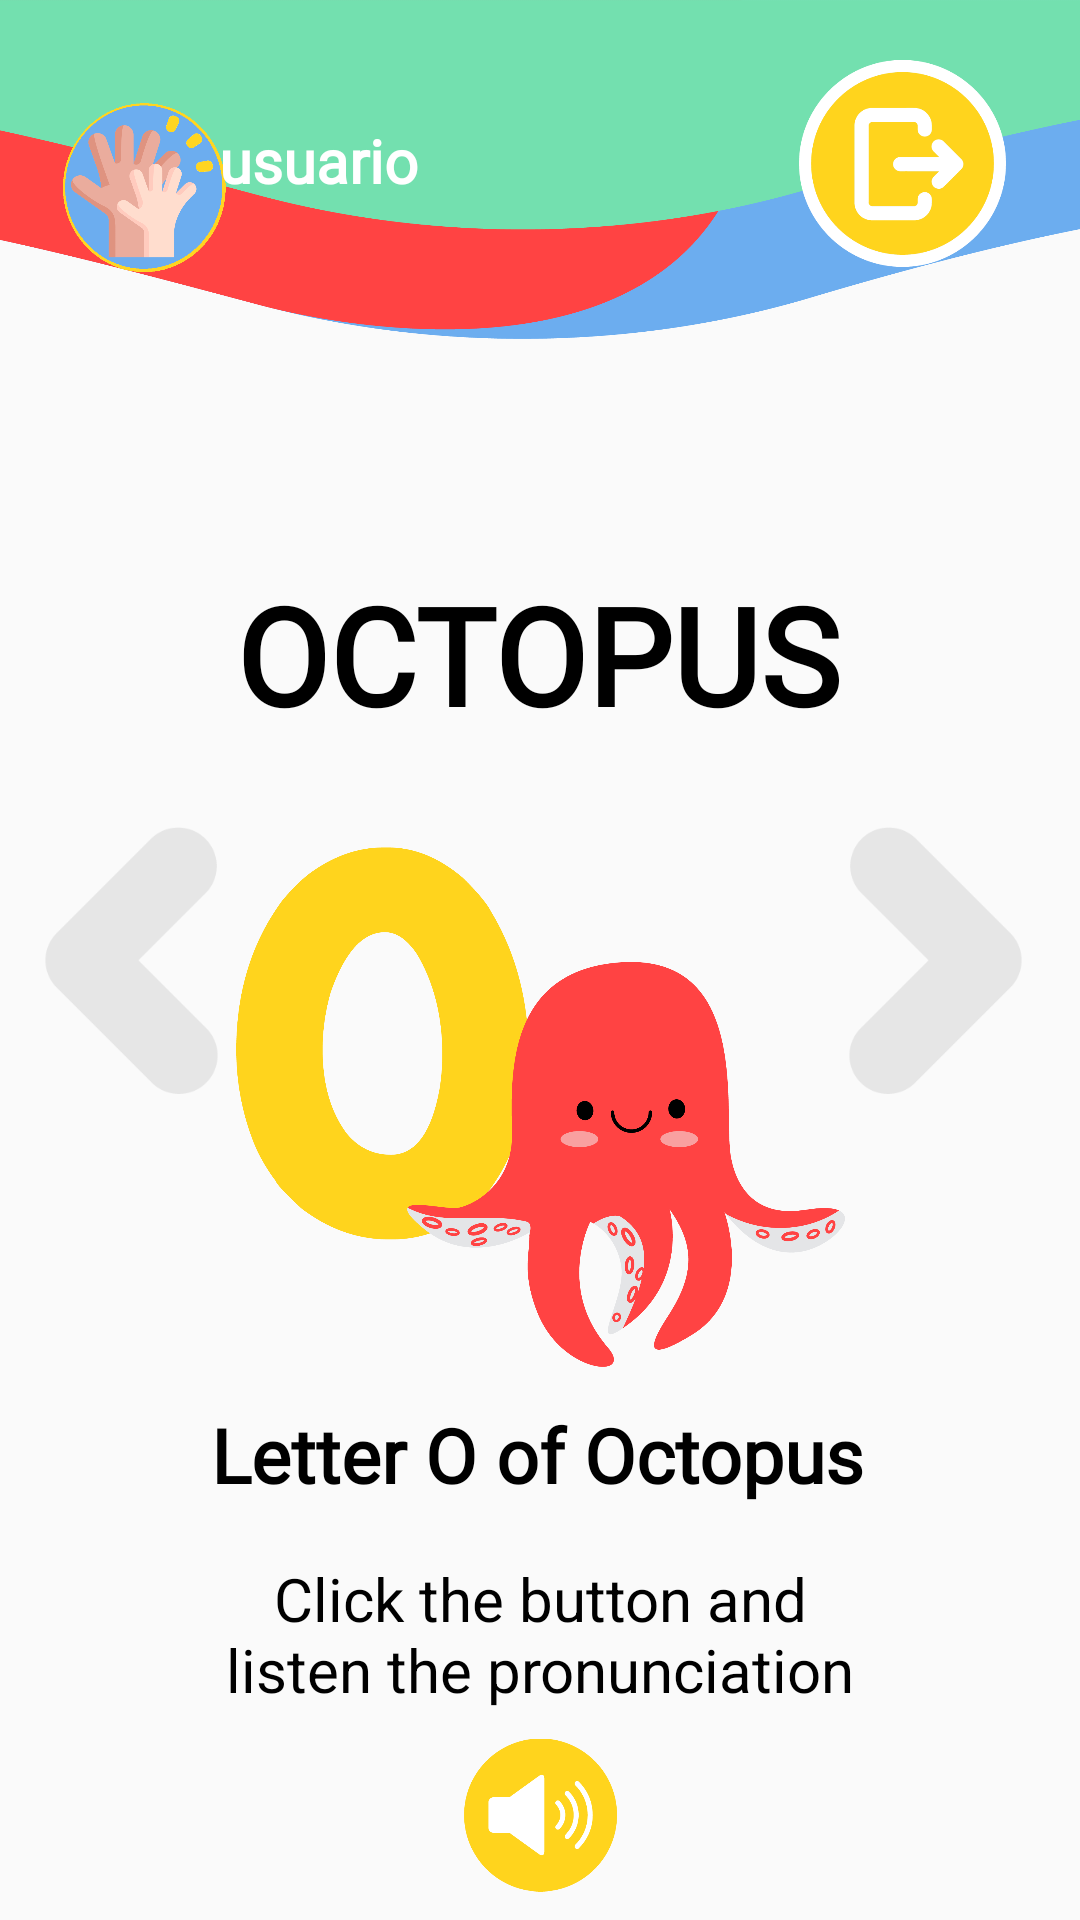

Icons on this 1080px x 1920px Android screen, each with the point to tap as point (x, y):
salir: point (902, 163)
